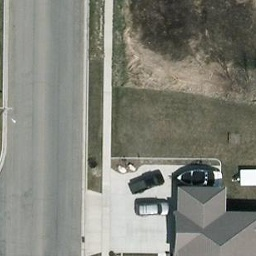car: (130, 167, 160, 193), (134, 201, 170, 217)
